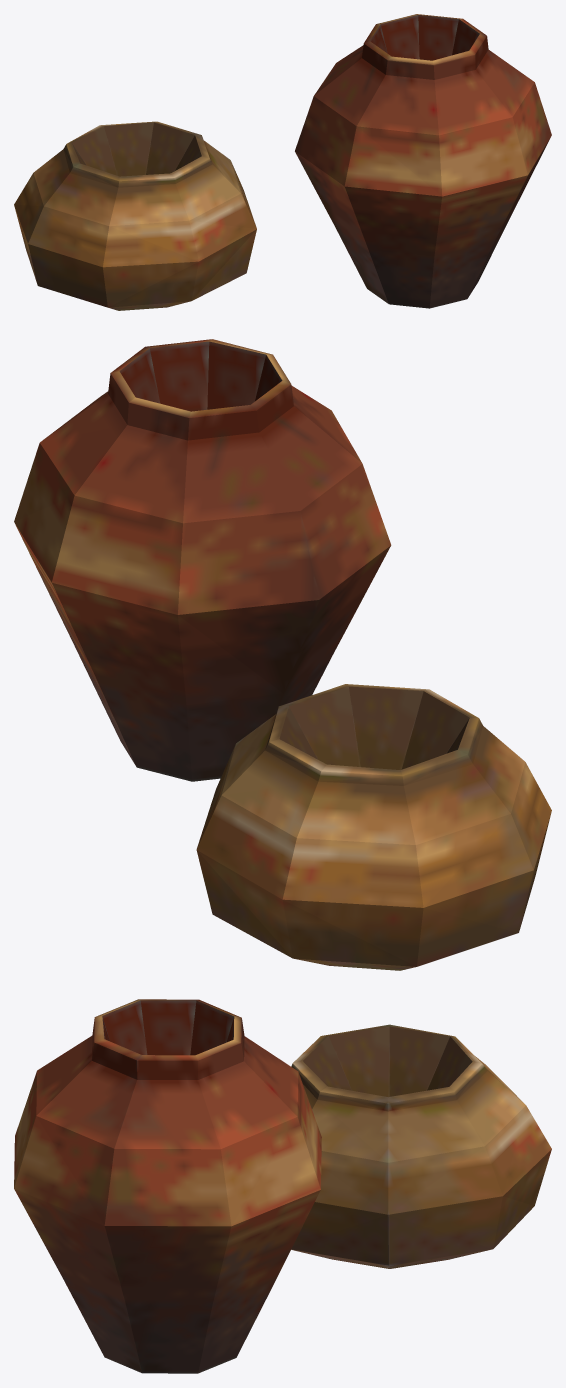
The model's file is 1004_Item_guanzi_7.FBX.
3 renders of one model, top to bottom at view 1: azimuth 30°, elevation 25°; view 2: azimuth 150°, elevation 25°; view 3: azimuth 270°, elevation 25°, orthographic. The views are drawn at different scales.
Parts seen in each view (by area): view 1: 1004_Item_guanzi_7; view 2: 1004_Item_guanzi_7; view 3: 1004_Item_guanzi_7.
Boxes of the visible parts, bbox=[...] form: 1004_Item_guanzi_7: bbox=[14, 14, 551, 310]; 1004_Item_guanzi_7: bbox=[14, 339, 551, 970]; 1004_Item_guanzi_7: bbox=[14, 999, 551, 1373].
Size of the model in its own units: 59.57 by 36.11 by 52.24.
